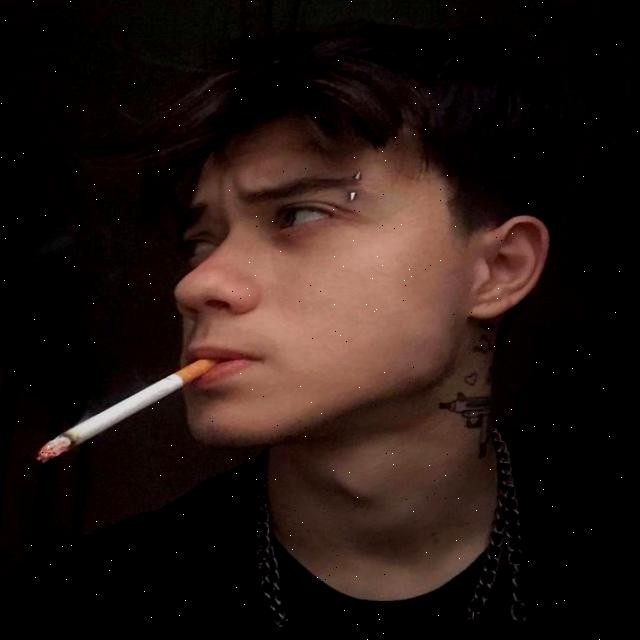cigarette: (42, 358, 218, 467)
